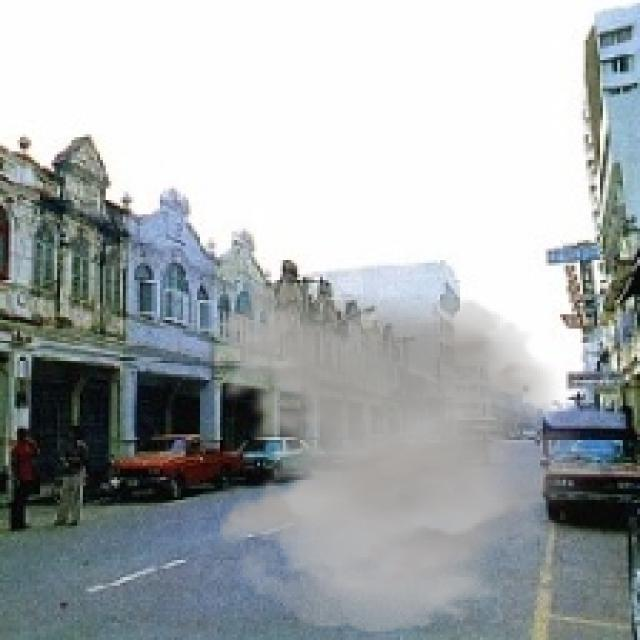Smoke: (206, 279, 612, 632)
